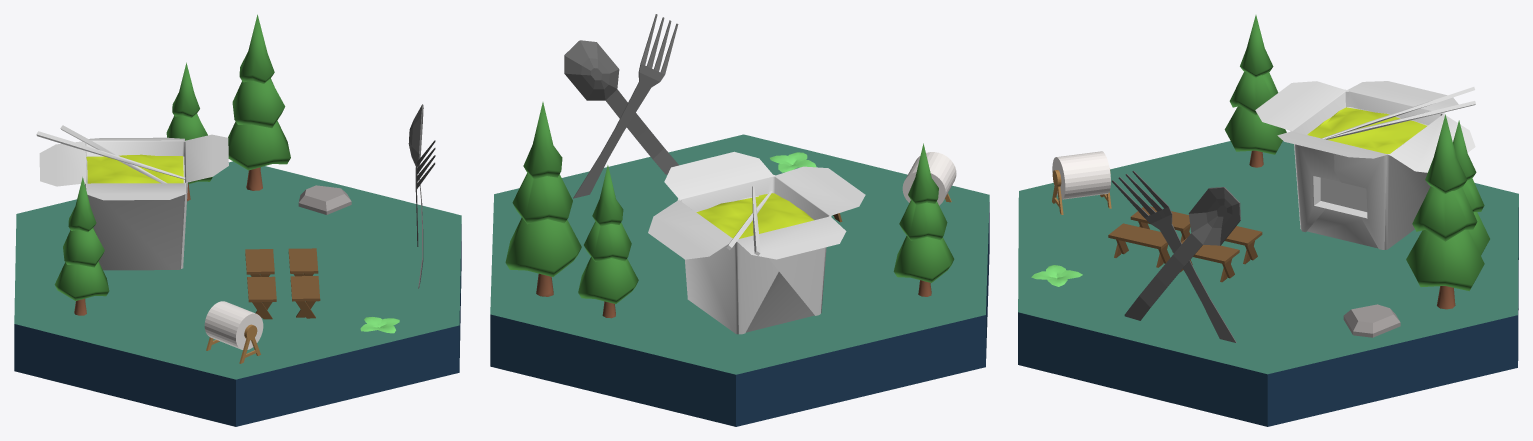
The model's file is Macro - Restaurant lvl 1 WM2.fbx.
The picture shows the model from 3 angles, left to right: view 1: azimuth 30°, elevation 25°; view 2: azimuth 150°, elevation 25°; view 3: azimuth 270°, elevation 25°; orthographic projection. The views are drawn at different scales.
Visible parts, largest first — view 1: Cylinder.176, Cube.108, Tree_Spruce_tiny_01.002, Tree_Spruce_tiny_01.003, Cylinder.011, Tree_Spruce_tiny_01.001, Rock Type4 04 mesh.013, table.002, table.003, Plane.116, table.001, table (+2 smaller); view 2: Cylinder.176, Cube.108, Tree_Spruce_tiny_01.002, Tree_Spruce_tiny_01.001, Tree_Spruce_tiny_01.003, Plane.116, Plane.117, Cylinder.011, Plane.011; view 3: Cylinder.176, Cube.108, Tree_Spruce_tiny_01.002, Tree_Spruce_tiny_01.003, Plane.116, Plane.117, Cylinder.011, Tree_Spruce_tiny_01.001, Rock Type4 04 mesh.013, table.002, table.001, table (+2 smaller).
Part boxes in pixels (left/top/right/bottom): Cylinder.176: left=14, top=161, right=461, bottom=426; Cube.108: left=36, top=125, right=228, bottom=270; Tree_Spruce_tiny_01.002: left=228, top=14, right=290, bottom=190; Tree_Spruce_tiny_01.003: left=54, top=177, right=109, bottom=315; Cylinder.011: left=204, top=301, right=263, bottom=349; Tree_Spruce_tiny_01.001: left=166, top=62, right=212, bottom=201; Rock Type4 04 mesh.013: left=298, top=185, right=351, bottom=214; table.002: left=290, top=276, right=320, bottom=318; table.003: left=247, top=276, right=276, bottom=319; Plane.116: left=408, top=104, right=423, bottom=288; table.001: left=288, top=248, right=318, bottom=276; table: left=245, top=249, right=274, bottom=276; Cylinder.176: left=490, top=134, right=989, bottom=426; Cube.108: left=648, top=151, right=865, bottom=334; Tree_Spruce_tiny_01.002: left=505, top=102, right=581, bottom=296; Tree_Spruce_tiny_01.001: left=578, top=165, right=638, bottom=318; Tree_Spruce_tiny_01.003: left=893, top=143, right=954, bottom=296; Plane.116: left=564, top=40, right=678, bottom=174; Plane.117: left=573, top=14, right=678, bottom=198; Cylinder.011: left=902, top=152, right=956, bottom=205; Plane.011: left=770, top=152, right=816, bottom=172; Cylinder.176: left=1018, top=141, right=1518, bottom=426; Cube.108: left=1255, top=81, right=1475, bottom=249; Tree_Spruce_tiny_01.002: left=1406, top=114, right=1484, bottom=309; Tree_Spruce_tiny_01.003: left=1224, top=15, right=1286, bottom=167; Plane.116: left=1124, top=187, right=1240, bottom=320; Plane.117: left=1111, top=170, right=1236, bottom=342; Cylinder.011: left=1052, top=151, right=1110, bottom=199; Tree_Spruce_tiny_01.001: left=1453, top=120, right=1489, bottom=255; Rock Type4 04 mesh.013: left=1343, top=304, right=1400, bottom=337; table.002: left=1108, top=223, right=1170, bottom=267; table.001: left=1172, top=238, right=1239, bottom=282; table: left=1225, top=226, right=1262, bottom=264.
Bounding box in the file's own units: 197 × 93.23 × 172.
